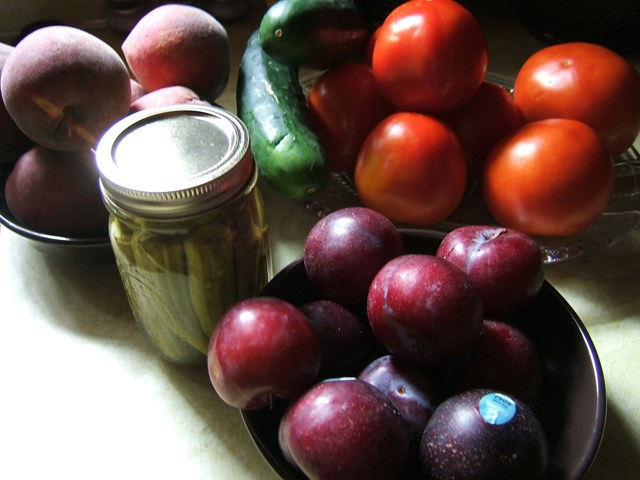tomato: (486, 116, 614, 233), (516, 38, 639, 157), (356, 110, 468, 225), (373, 0, 487, 112), (441, 80, 521, 196), (308, 66, 387, 142)
